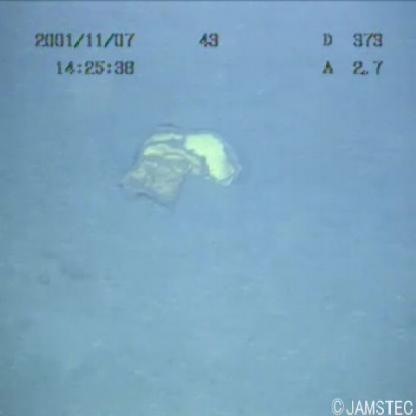Rác: (111, 119, 248, 209)
